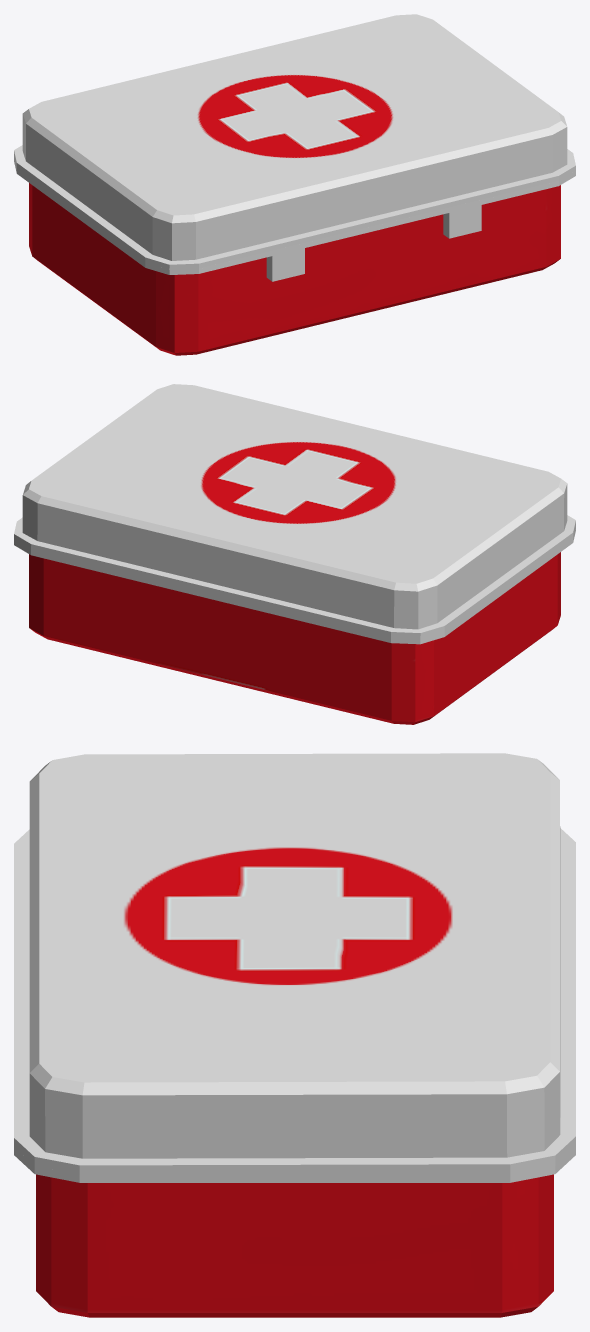
Rendered from First Aid Kit new.fbx.
3 renders of one model, top to bottom at view 1: azimuth 30°, elevation 25°; view 2: azimuth 150°, elevation 25°; view 3: azimuth 270°, elevation 25°, orthographic. The views are drawn at different scales.
Parts seen in each view (by area): view 1: First_Aid_Kit_Lid, First_Aid_Kit; view 2: First_Aid_Kit_Lid, First_Aid_Kit; view 3: First_Aid_Kit_Lid, First_Aid_Kit.
Boxes of the visible parts, x1,y1,x2,y2 form: First_Aid_Kit_Lid: (14,14,575,269); First_Aid_Kit: (14,157,575,355); First_Aid_Kit_Lid: (14,384,575,639); First_Aid_Kit: (14,526,575,724); First_Aid_Kit_Lid: (14,753,575,1175); First_Aid_Kit: (14,1147,575,1317).
Bounding box in the file's own units: 0.3119 × 0.1 × 0.2119.
1 material, 1 textured.
